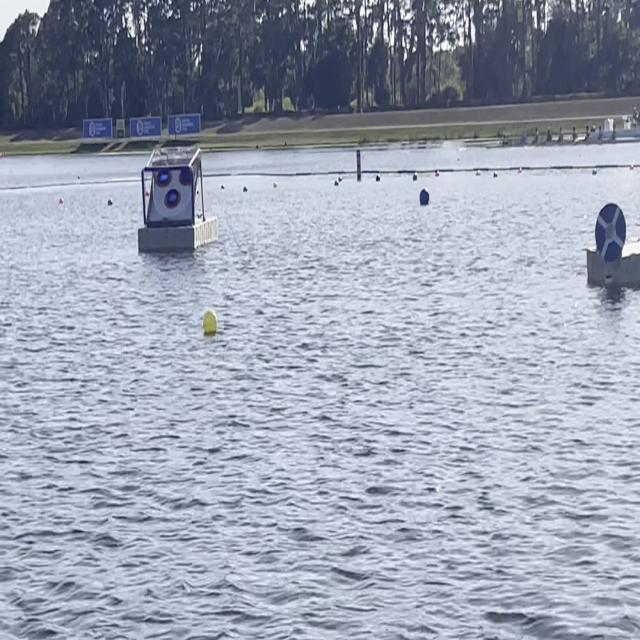buoy: (203, 308, 216, 334), (419, 188, 429, 207)
